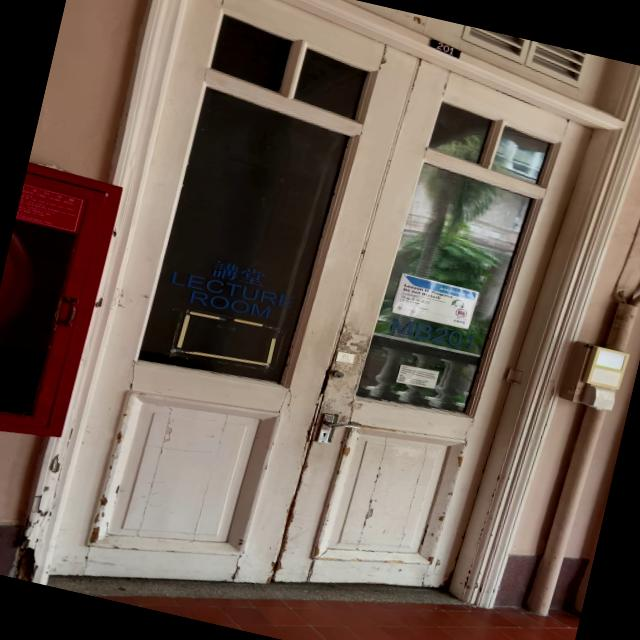room201: (422, 35, 466, 63)
room201Window: (383, 313, 478, 352)
